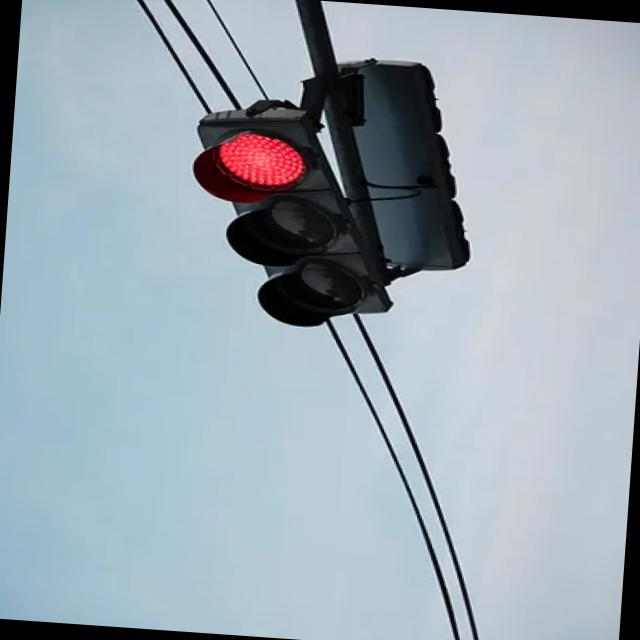red-lights: (212, 129, 304, 191)
